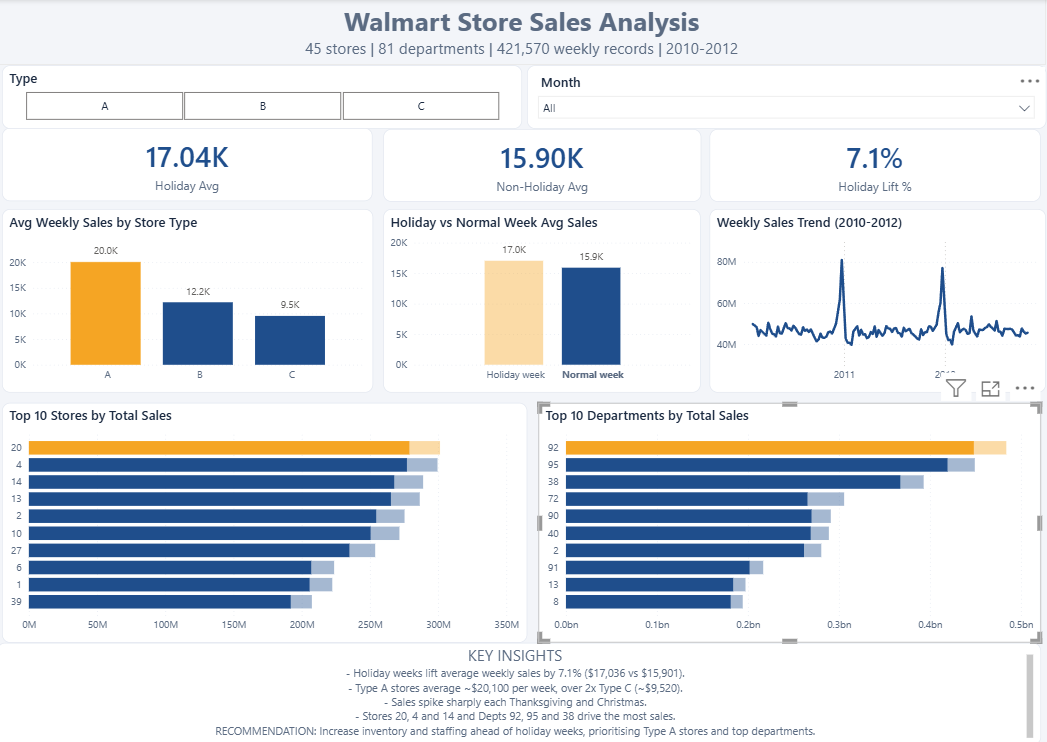

The page's visual inventory and layout, read from the dashboard file:
{"tool":"powerbi","page":{"name":"Page 1","canvas":[1280,910],"ordinal":0},"visuals":[{"type":"card","fields":{"Values":["walmart_clean.Holiday Avg"]},"box":[6.2,157.7,452.1,89.9],"z":0},{"type":"card","fields":{"Values":["walmart_clean.Non-Holiday Avg"]},"box":[470.6,158.9,388.1,88.7],"z":1000},{"type":"card","fields":{"Values":["walmart_clean.Holiday Lift %"]},"box":[869.8,158.9,404.1,88.7],"z":2000},{"type":"clusteredColumnChart","title":"Avg Weekly Sales by Store Type","fields":{"Y":["walmart_clean.Avg Weekly Sales"],"Category":["walmart_clean.Type"]},"box":[6.2,256.2,452.1,235.3],"z":3000},{"type":"lineChart","title":"Weekly Sales Trend (2010-2012)","fields":{"Category":["walmart_clean.Date"],"Y":["walmart_clean.Total Sales"]},"box":[869.8,256.2,410.2,235.3],"z":4000},{"type":"clusteredBarChart","title":"Top 10 Stores by Total Sales","fields":{"Category":["walmart_clean.Store"],"Y":["walmart_clean.Total Sales"]},"box":[6.2,507.6,640.6,293.2],"z":5000},{"type":"clusteredBarChart","title":"Top 10 Departments by Total Sales","fields":{"Category":["walmart_clean.Dept"],"Y":["walmart_clean.Total Sales"]},"box":[660.3,507.6,613.5,293.2],"z":6000},{"type":"slicer","title":"Type","fields":{"Values":["walmart_clean.Type"]},"box":[6.2,80.1,634.5,77.6],"z":7000},{"type":"slicer","fields":{"Values":["walmart_clean.Month"]},"box":[646.8,80.1,633.2,77.6],"z":8000},{"type":"textbox","box":[0,0,1280,80.1],"z":9000},{"type":"clusteredColumnChart","title":"Holiday vs Normal Week Avg Sales","fields":{"Category":["walmart_clean.Week_Type"],"Y":["walmart_clean.Avg Weekly Sales"]},"box":[471.8,256.2,386.8,235.3],"z":10000},{"type":"textbox","box":[0,800.8,1273.8,110],"z":11000}]}

Visuals, with their boxes in screenshot pixels (x1, y1, x2, y2), scaled from the page's 1280x910 canvas onto the 1047x742 screenshot:
card - walmart_clean.Holiday Avg: (x1=5, y1=129, x2=375, y2=202)
card - walmart_clean.Non-Holiday Avg: (x1=385, y1=130, x2=702, y2=202)
card - walmart_clean.Holiday Lift %: (x1=711, y1=130, x2=1042, y2=202)
"Avg Weekly Sales by Store Type" clusteredColumnChart: (x1=5, y1=209, x2=375, y2=401)
"Weekly Sales Trend (2010-2012)" lineChart: (x1=711, y1=209, x2=1046, y2=401)
"Top 10 Stores by Total Sales" clusteredBarChart: (x1=5, y1=414, x2=529, y2=653)
"Top 10 Departments by Total Sales" clusteredBarChart: (x1=540, y1=414, x2=1042, y2=653)
"Type" slicer: (x1=5, y1=65, x2=524, y2=129)
slicer - walmart_clean.Month: (x1=529, y1=65, x2=1046, y2=129)
textbox: (x1=0, y1=0, x2=1046, y2=65)
"Holiday vs Normal Week Avg Sales" clusteredColumnChart: (x1=386, y1=209, x2=702, y2=401)
textbox: (x1=0, y1=653, x2=1042, y2=741)
